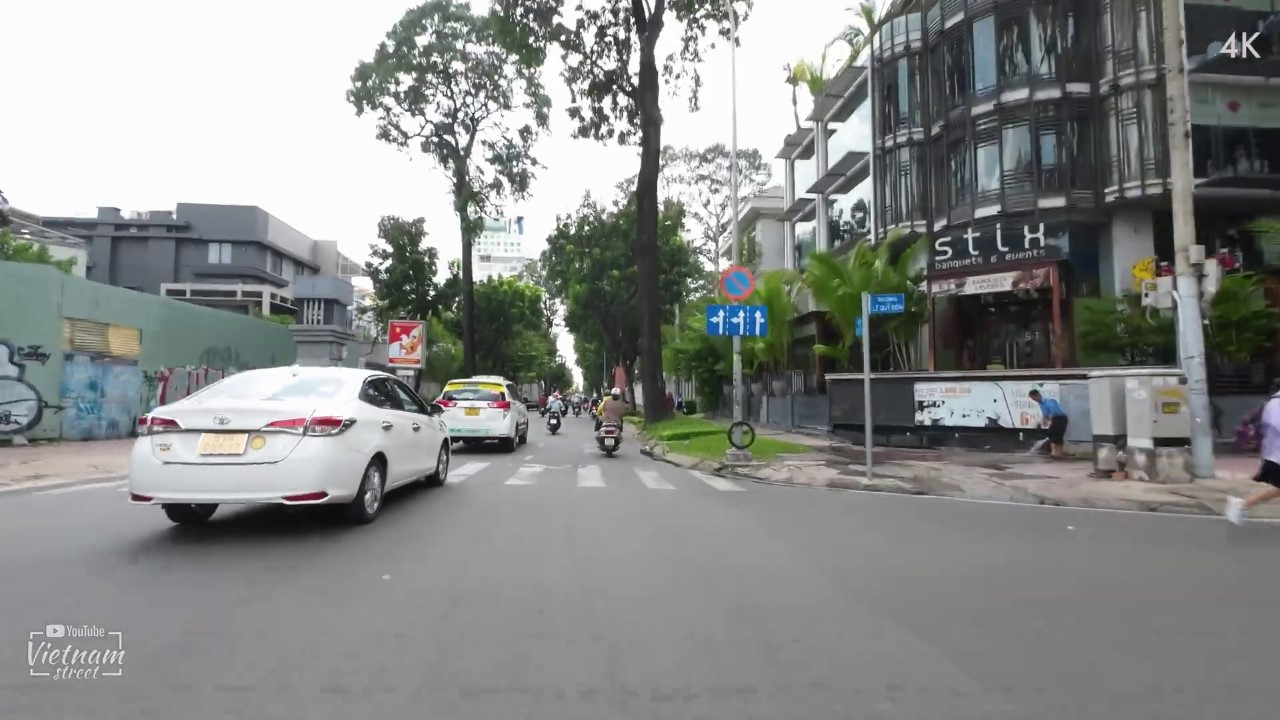cam_do_xe: (720, 266, 755, 301)
